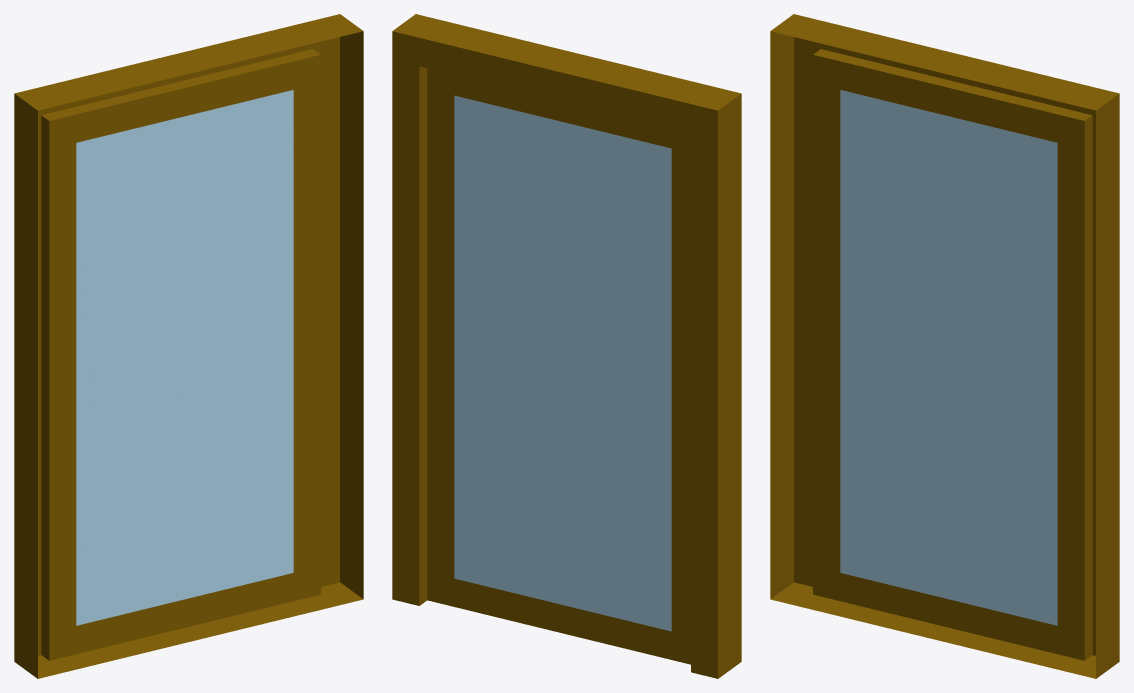
File: BigWindowDoor.fbx
3 views of the same model, side by side, from view 1: azimuth 30°, elevation 25°; view 2: azimuth 150°, elevation 25°; view 3: azimuth 330°, elevation 25° (orthographic).
Parts seen in each view (by area): view 1: BigWindowDoor_LOD0; view 2: BigWindowDoor_LOD0; view 3: BigWindowDoor_LOD0.
Boxes of the visible parts, bbox=[...] form: BigWindowDoor_LOD0: bbox=[14, 14, 363, 678]; BigWindowDoor_LOD0: bbox=[392, 14, 741, 678]; BigWindowDoor_LOD0: bbox=[770, 14, 1119, 678].
Size of what is drawn, in the model's own units: 240 by 400 by 30.
